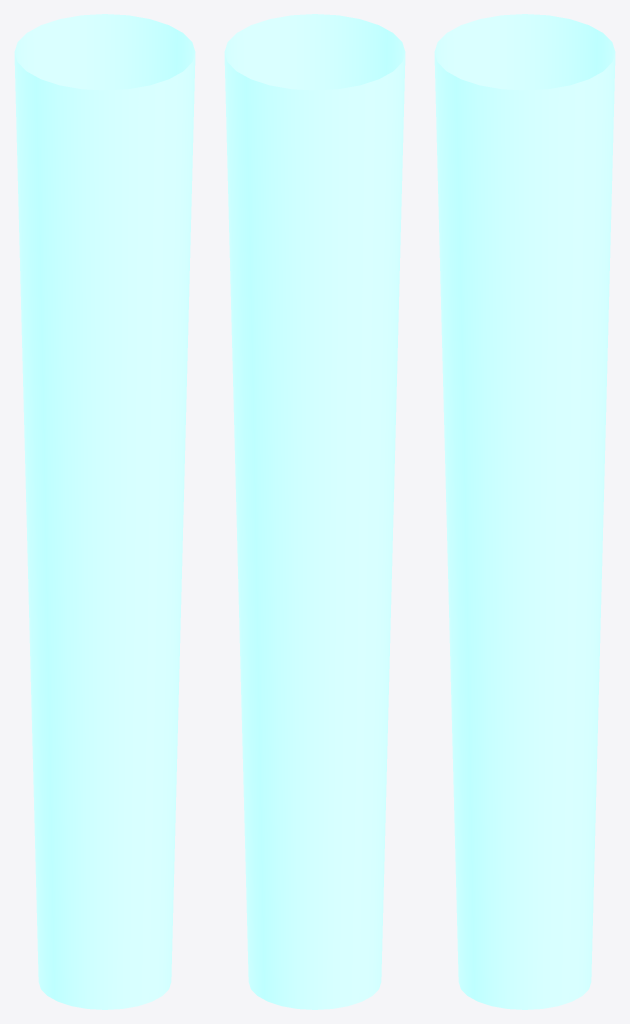
Rendered from sp_beam_soft.glb.
3 renders of one model, left to right at view 1: azimuth 30°, elevation 25°; view 2: azimuth 150°, elevation 25°; view 3: azimuth 270°, elevation 25°, orthographic.
Visible parts, largest first — view 1: spire; view 2: spire; view 3: spire.
Boxes of the visible parts, <box> form: spire: <box>14,14,195,1009</box>; spire: <box>224,14,405,1009</box>; spire: <box>434,14,615,1009</box>.
Size of the model in its own units: 0.6 by 3.4 by 0.6.
